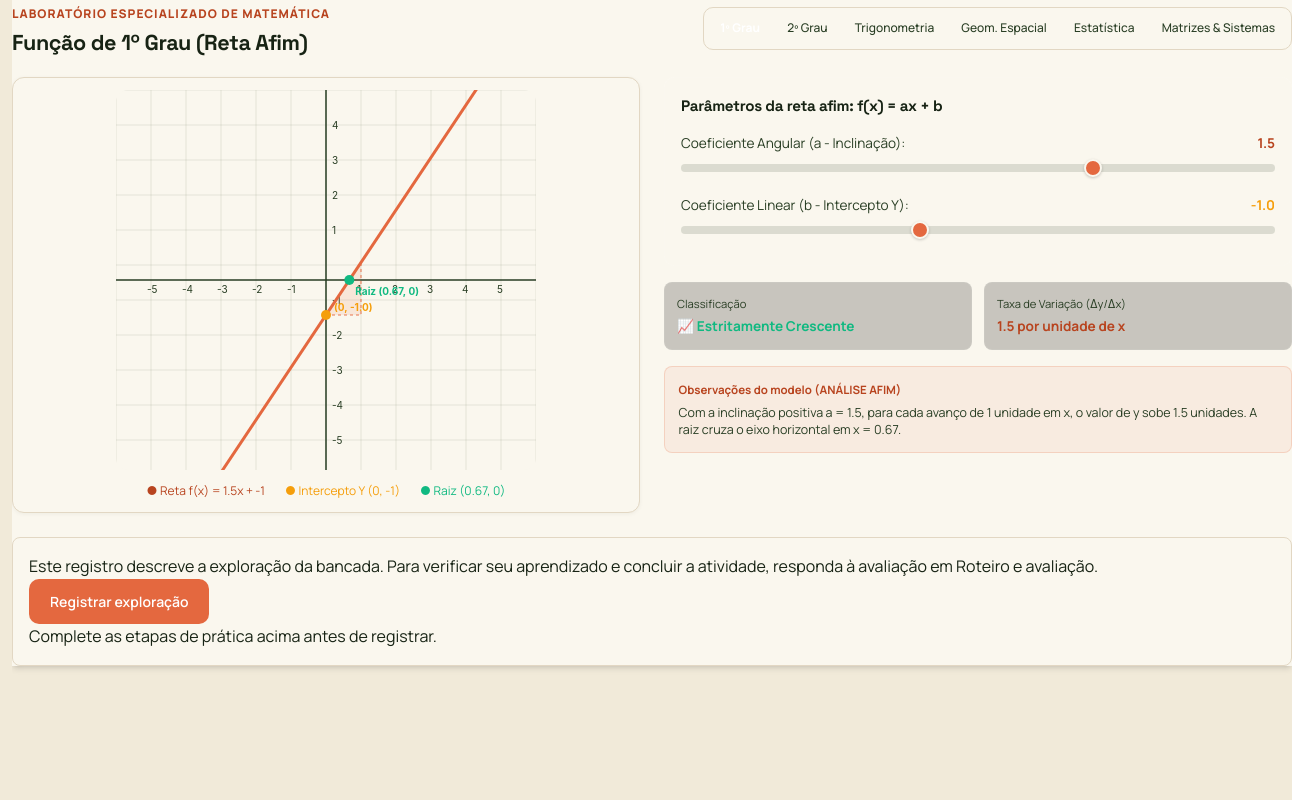
Scenario: MathSimulator - 6 Unique Specialized Laboratories Suite › 1. Linear Mode (Função de 1º Grau) renders slope, root, and handles completion
Expected: the heading "Função de 1º Grau (Reta Afim)" is shown, [12,29,330,57]
Expected: the text "Coeficiente Angular (a - Inclinação):" is shown, [681,133,905,154]
Set the slider below "Coeficiente Angular (a - Inclinação):" to "2" at (1122, 168), box [681,164,1275,172]
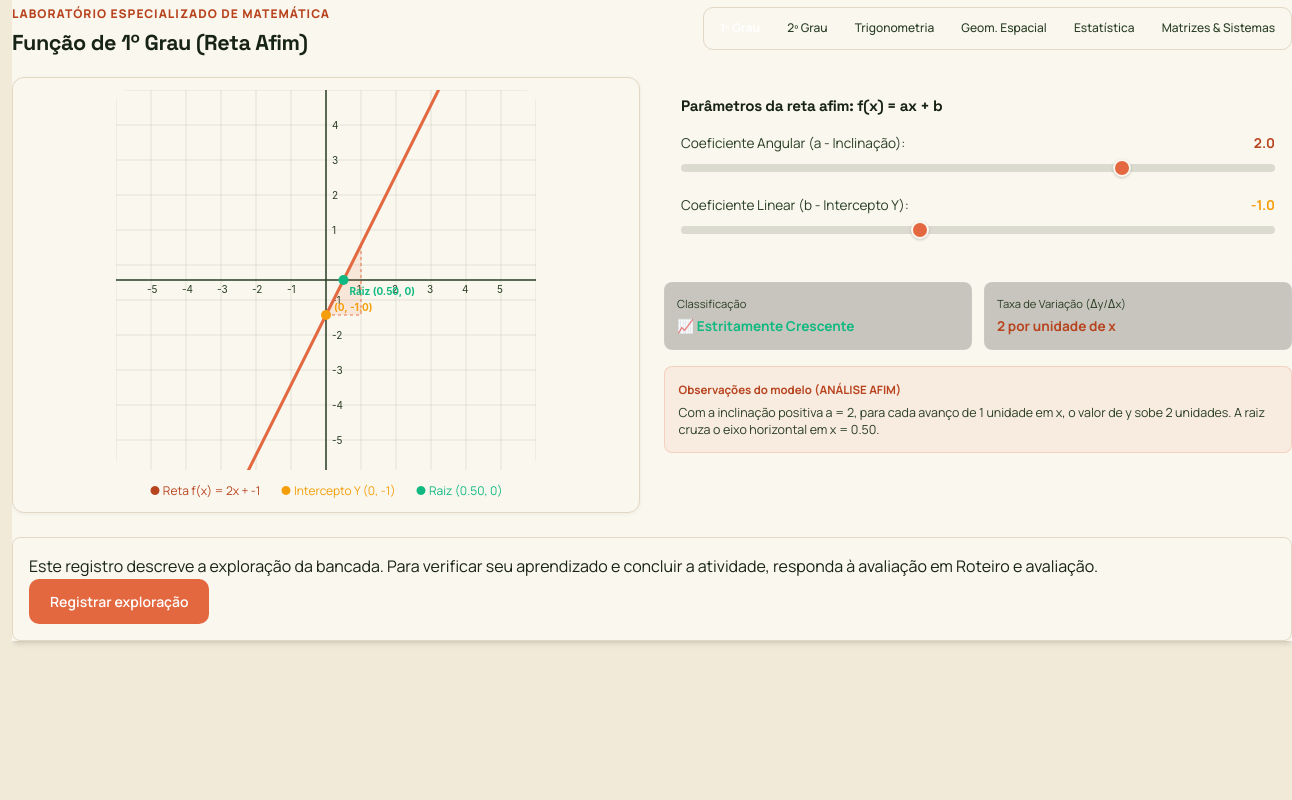
Click the button "Registrar exploração" at (119, 602), box [29,579,210,624]
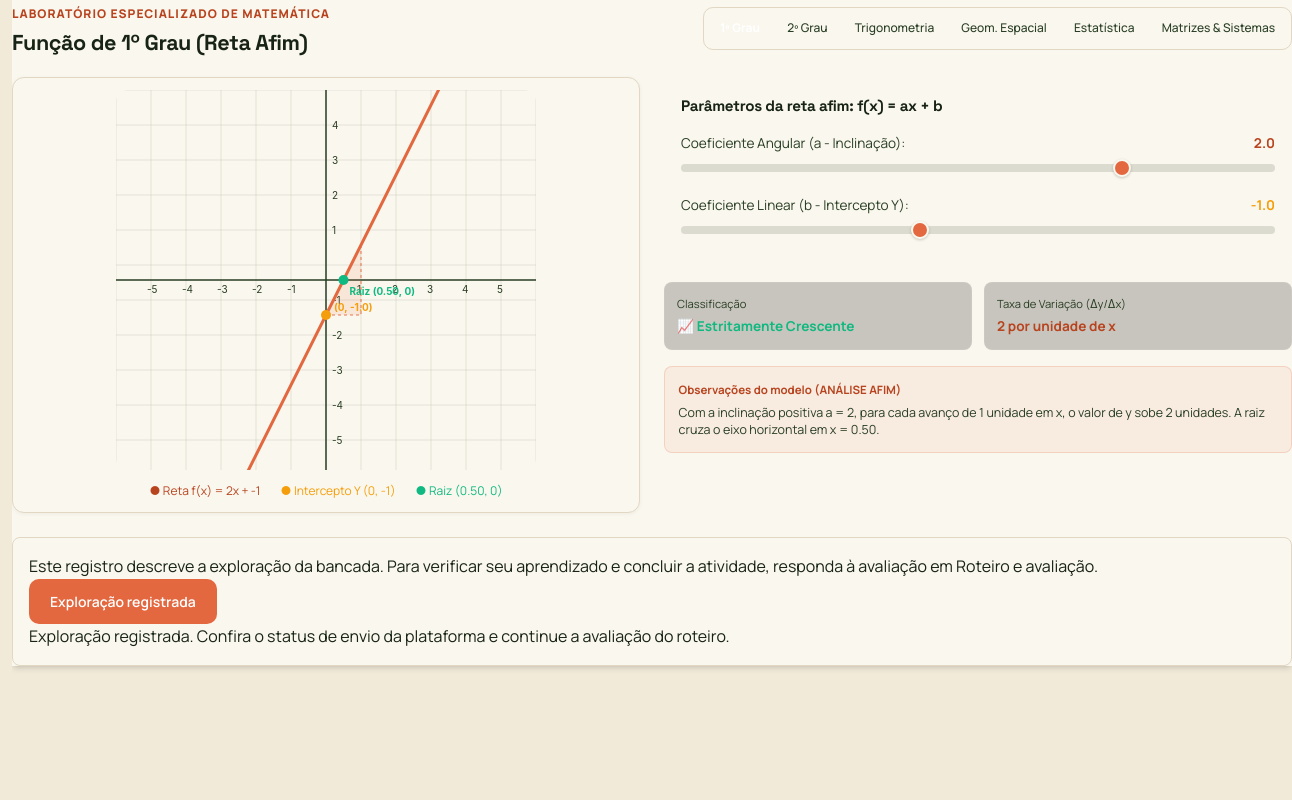
Expected: the button "Exploração registrada" is shown, [29,579,217,624]
